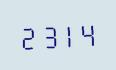four: (78, 18, 97, 47)
one: (58, 19, 77, 48)
three: (38, 21, 57, 49)
two: (18, 22, 37, 51)
